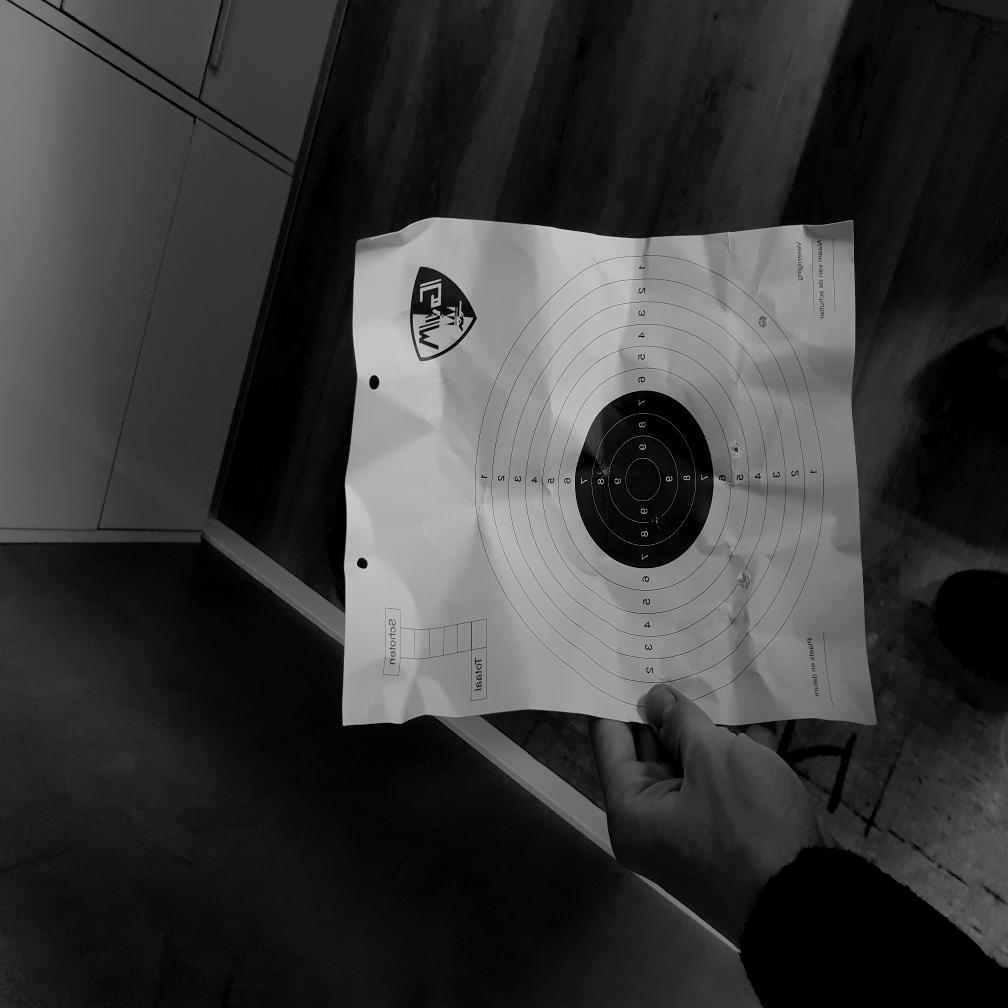1: (757, 314, 768, 329)
4: (737, 570, 751, 589)
5: (729, 439, 742, 458)
9: (648, 514, 661, 535), (597, 463, 610, 481)
Target: (474, 253, 826, 699)
black_contour: (574, 391, 714, 568)
